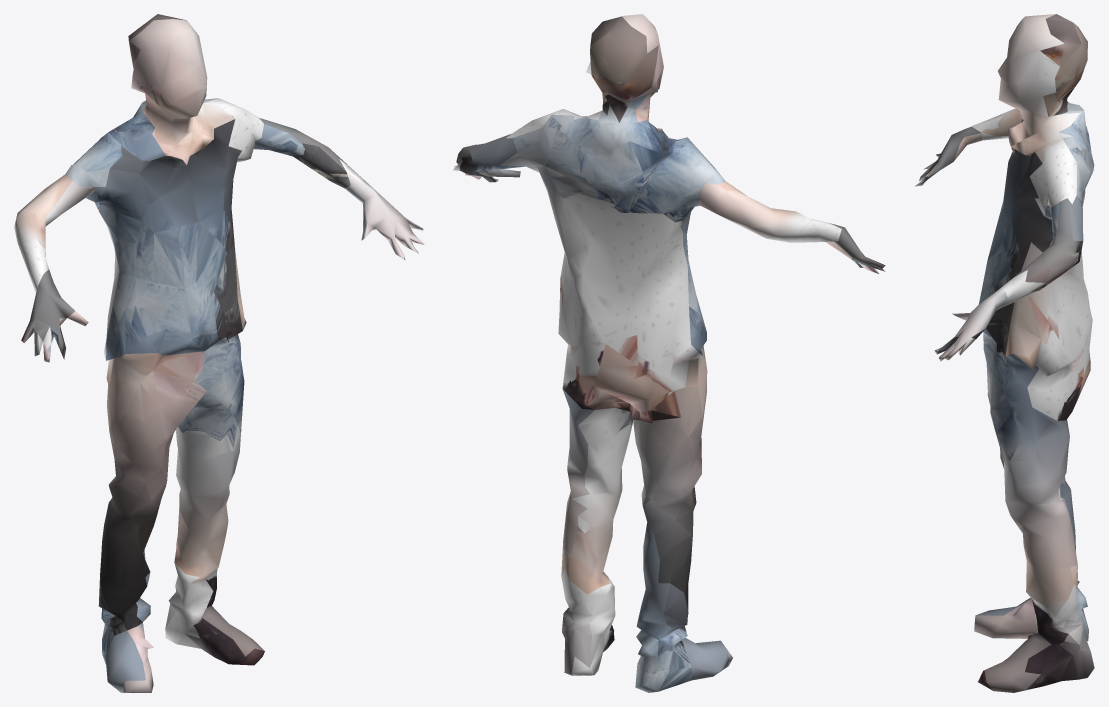
Rendered from ddc_graph.obj.
The picture shows the model from 3 angles, left to right: view 1: azimuth 30°, elevation 25°; view 2: azimuth 150°, elevation 25°; view 3: azimuth 270°, elevation 25°; orthographic projection. The views are drawn at different scales.
Bounding box in the file's own units: 1196 × 1764 × 449.
Materials: 1 (1 with a texture image).
